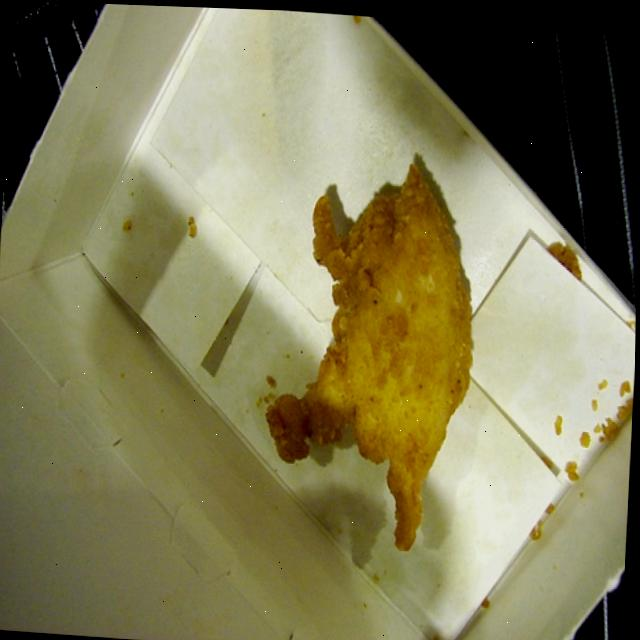鸡肉料理 含炸鸡: (251, 139, 496, 566)
